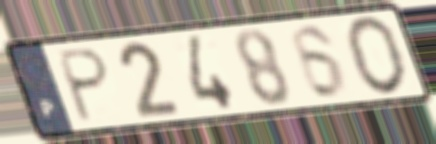2: (119, 38, 187, 122)
4: (188, 32, 238, 113)
6: (289, 23, 352, 101)
8: (233, 26, 295, 109)
O: (343, 14, 410, 98)
P: (55, 45, 112, 126)
